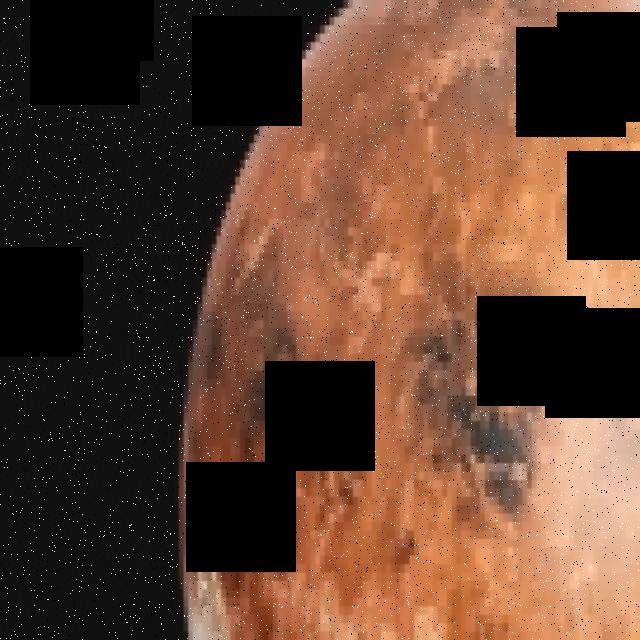Venus: (179, 0, 640, 640)
